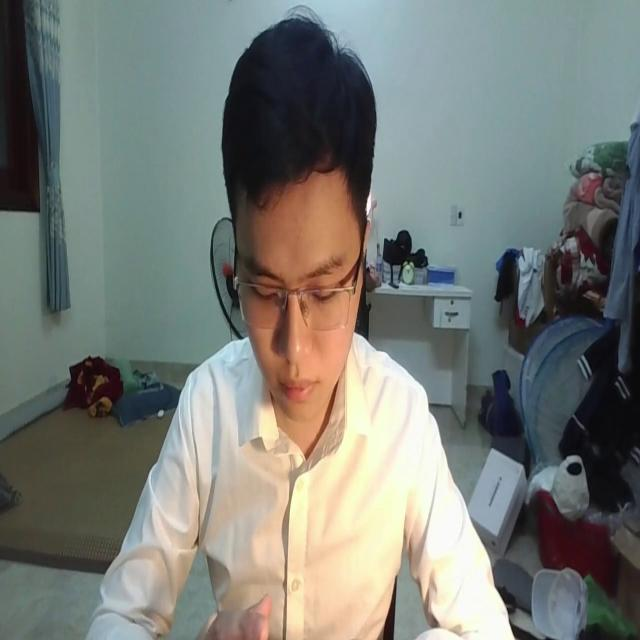student: (89, 24, 516, 640)
